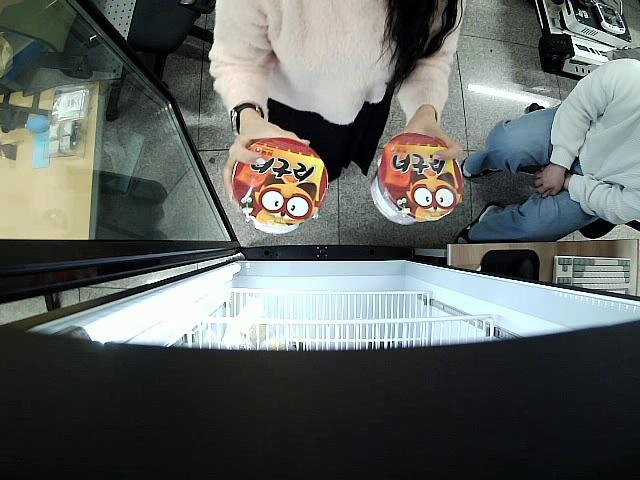00_hand: (223, 121, 311, 213), (381, 123, 464, 165)
05_nuguri_L: (233, 136, 330, 234), (371, 133, 463, 224)
